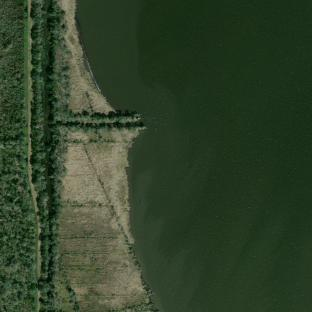Floresta: (30, 0, 70, 312), (0, 0, 36, 312), (68, 110, 143, 128)
